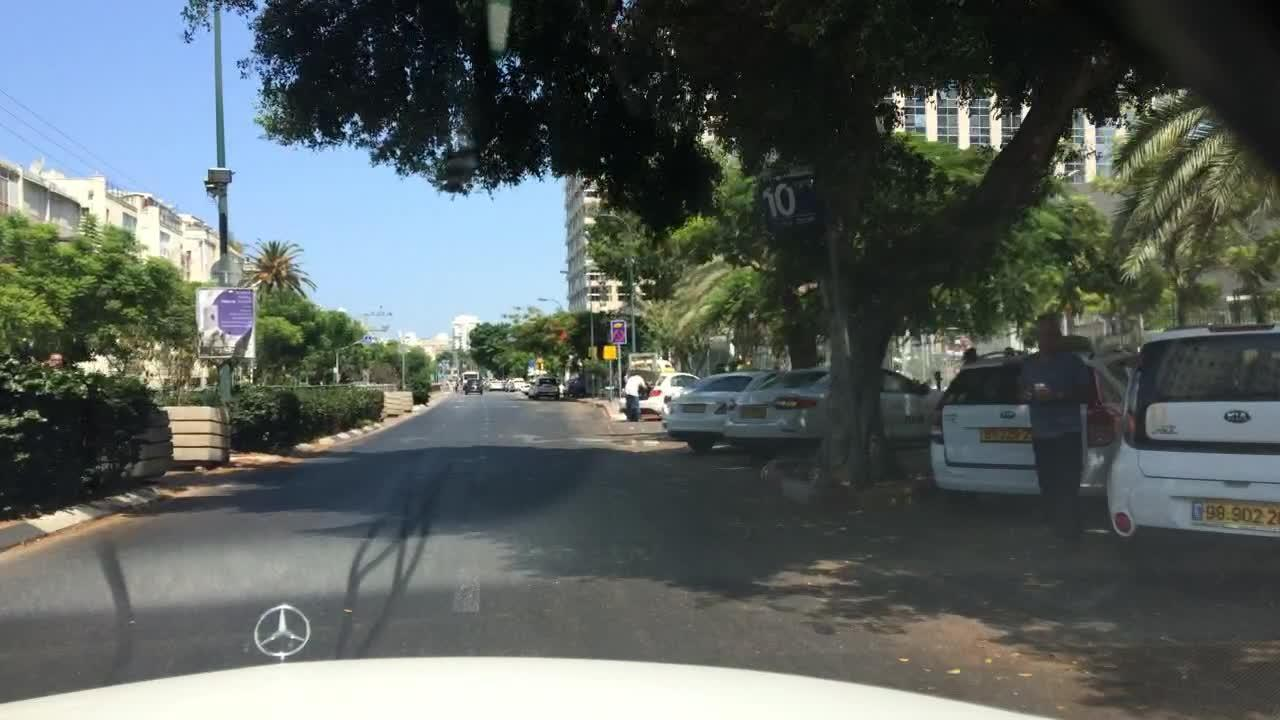Mercedes: (241, 589, 334, 676)
